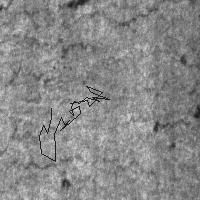crazing: (9, 149, 186, 198), (1, 27, 101, 90), (39, 86, 109, 161), (12, 1, 160, 30)
